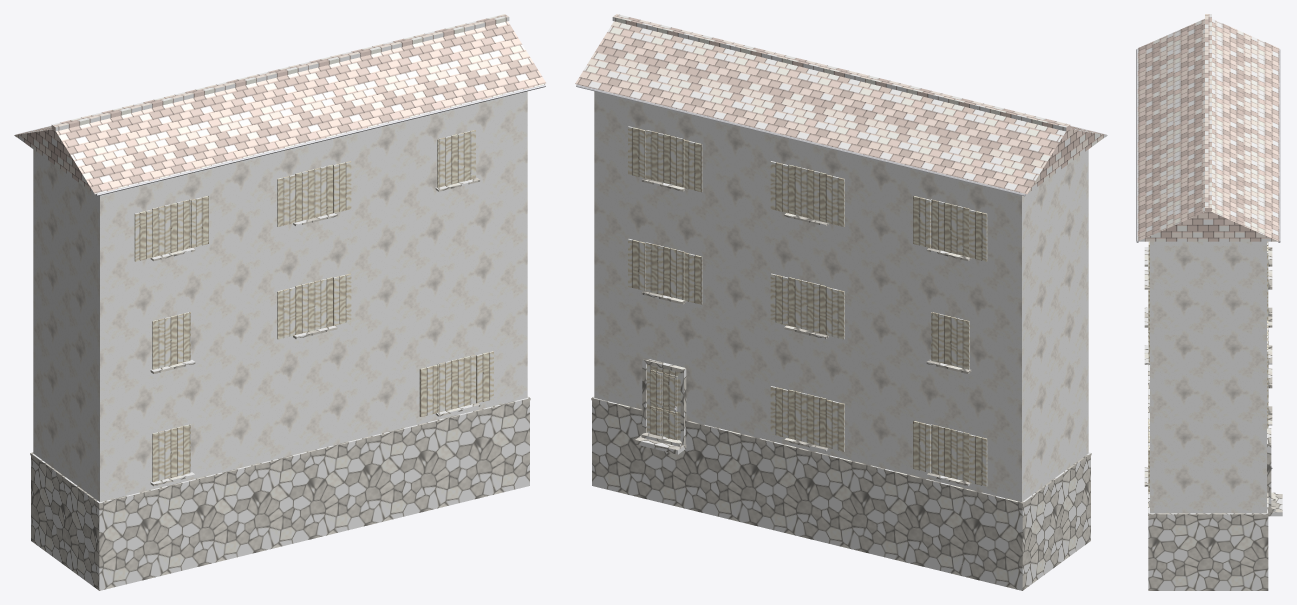
3 views of the same model, side by side, from view 1: azimuth 30°, elevation 25°; view 2: azimuth 150°, elevation 25°; view 3: azimuth 270°, elevation 25° (orthographic). The views are drawn at different scales.
Visible parts, largest first — view 1: b962648346; view 2: b962648346; view 3: b962648346.
Boxes of the visible parts, x1,y1,x2,y2 form: b962648346: (14, 14, 546, 590); b962648346: (575, 14, 1107, 590); b962648346: (1136, 14, 1282, 590).
Size of the model in its own units: 13.08 by 12.2 by 4.18.
16 materials, 16 textured.
